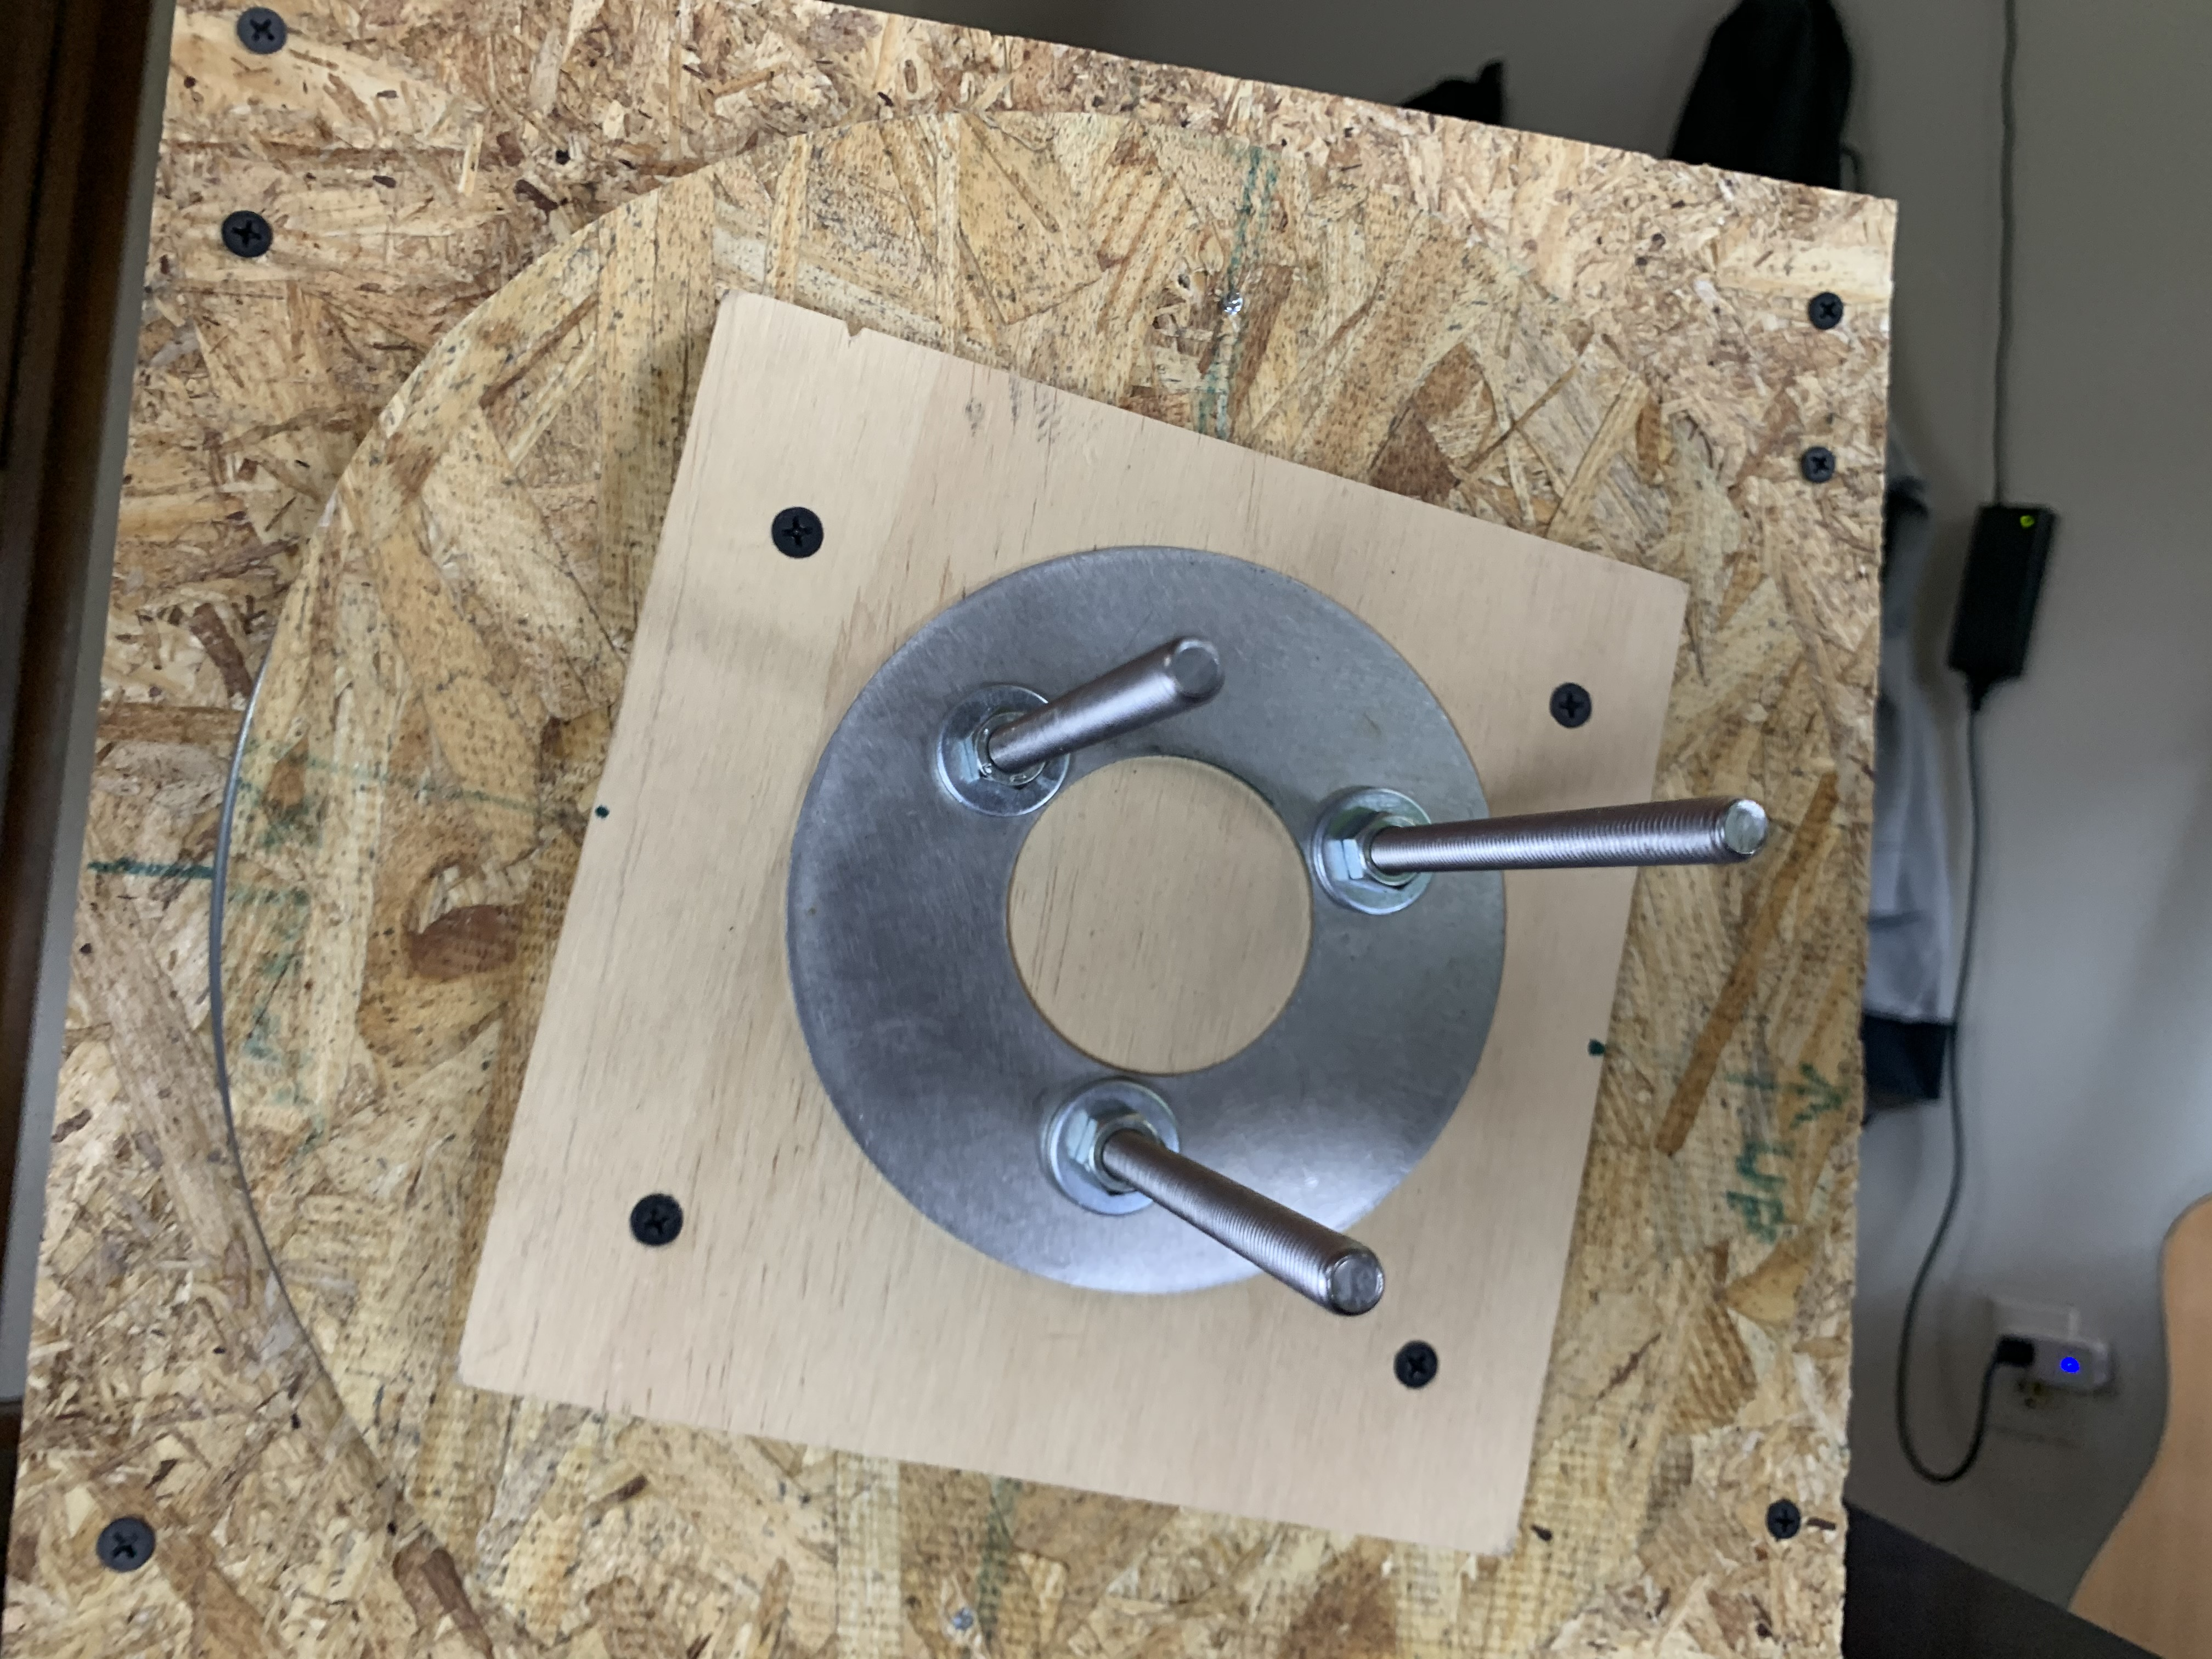bolt: (1038, 1079, 1181, 1211), (932, 681, 1071, 816), (1305, 781, 1435, 918)
